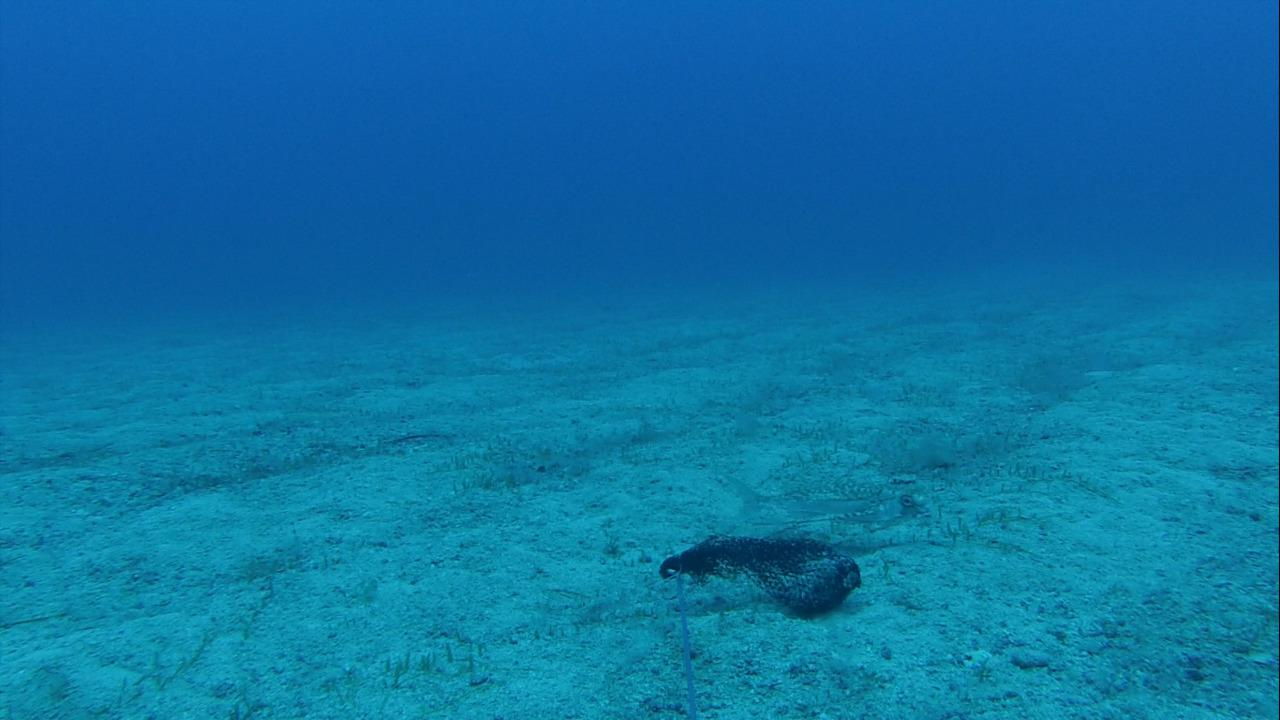dactylopterus: (714, 475, 931, 543)
